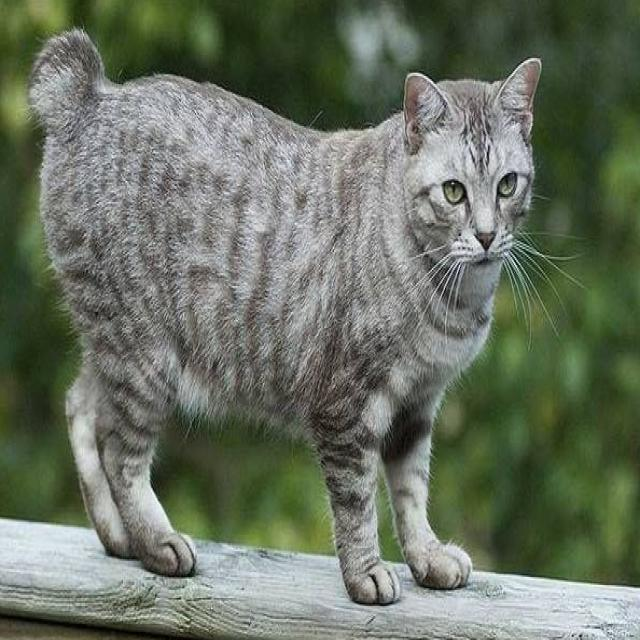American Bobtail: (26, 23, 548, 618)
